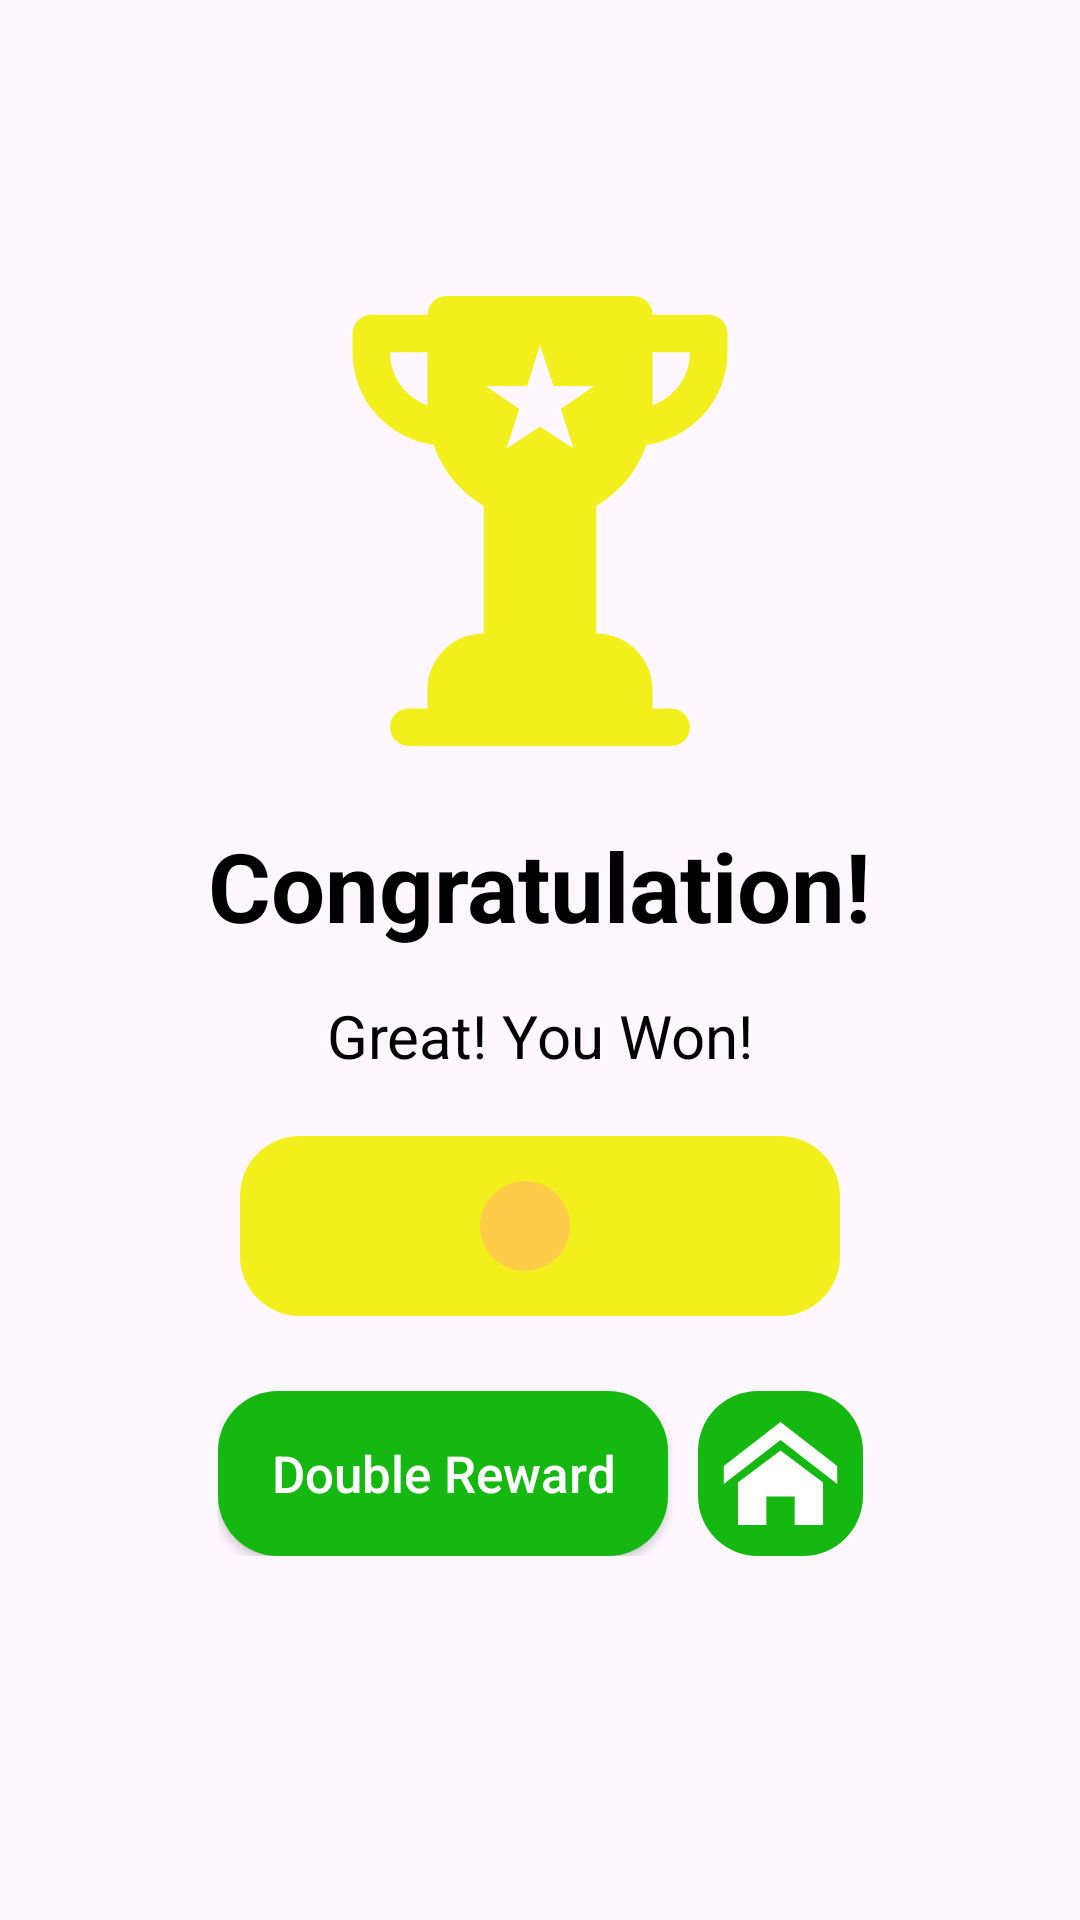

Icons on this 1080×1920 Android screen, each with the point to tap as (x,y):
home: (780,1473)
